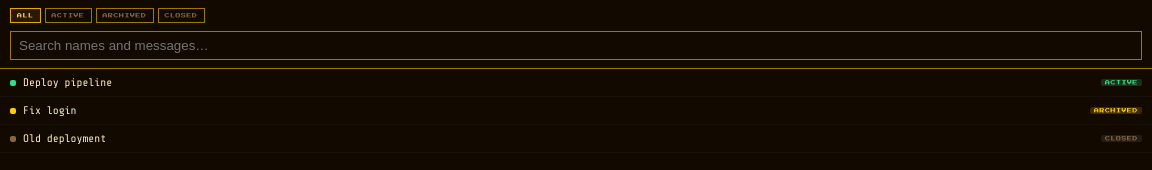
ConversationList › filters only the sidebar without replacing tab data or changing selection
This screenshot has width=1152, height=170.
Click the button with class "filter-btn" showing "Active". click: (68, 16)
box: x1=44 y1=8 x2=92 y2=23
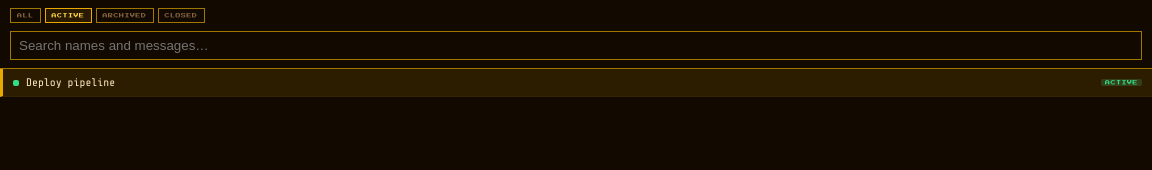
Expected: the number of elements with class "conversation-row" is 1, x1=0 y1=69 x2=1151 y2=97
Click the button with class "filter-btn" showing "Archived". click: (124, 16)
box: x1=96 y1=8 x2=154 y2=23
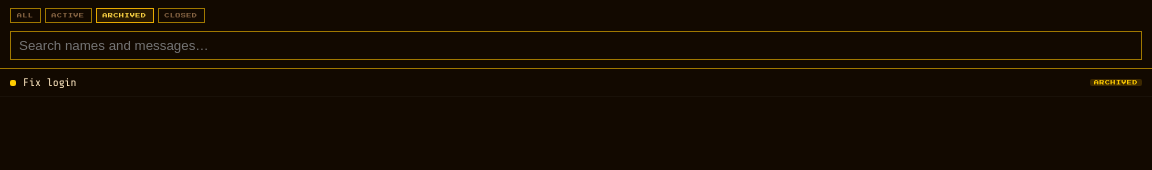
Expected: the number of elements with class "conversation-row" is 1, x1=0 y1=69 x2=1151 y2=97
Click the button with class "filter-btn" showing "Closed". click: (181, 16)
box: x1=158 y1=8 x2=204 y2=23
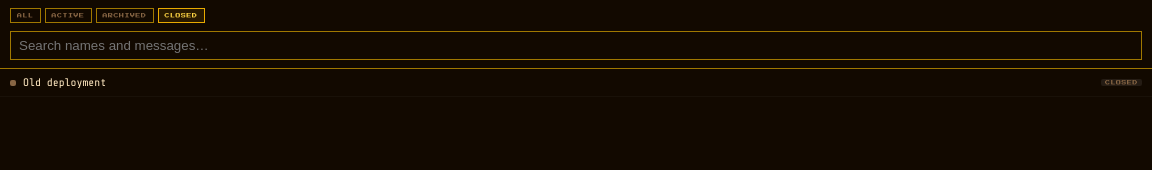
Expected: the number of elements with class "conversation-row" is 1, x1=0 y1=69 x2=1151 y2=97
Click the button with class "filter-btn" showing "All". click: (25, 16)
box: x1=10 y1=8 x2=40 y2=23
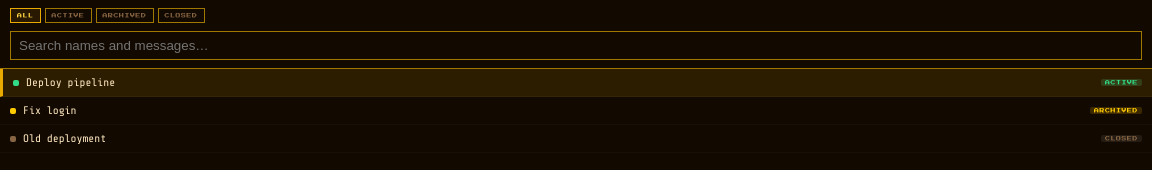
Expected: the number of elements with class "conversation-row" is 3, x1=0 y1=69 x2=1151 y2=97; x1=0 y1=97 x2=1151 y2=125; x1=0 y1=125 x2=1151 y2=153
